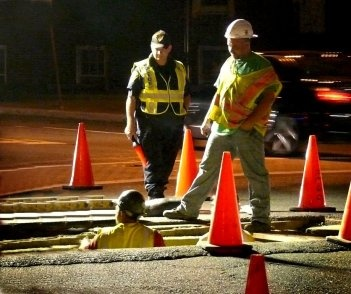blue: (112, 190, 146, 225)
none: (149, 30, 172, 57)
white: (225, 16, 255, 57)
